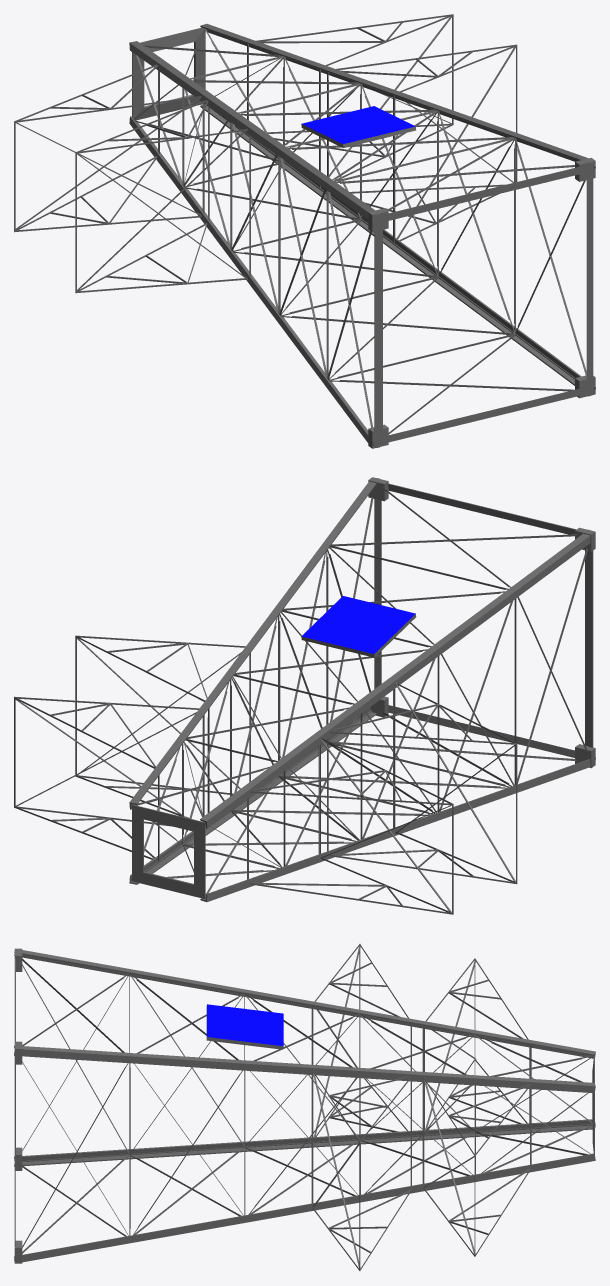
File: lep_color.glb
3 views of the same model, one above another, from view 1: azimuth 30°, elevation 25°; view 2: azimuth 150°, elevation 25°; view 3: azimuth 270°, elevation 25° (orthographic). The views are drawn at different scales.
Parts seen in each view (by area): view 1: ЛЭП; view 2: ЛЭП; view 3: ЛЭП.
Boxes of the visible parts, box(x1,y1,x2,y2) form: ЛЭП: box(14, 14, 595, 448); ЛЭП: box(14, 477, 595, 914); ЛЭП: box(14, 944, 595, 1270).
Size of the model in its own units: 1.21 by 0.6133 by 1.5.
